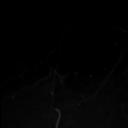fish: (54, 108, 61, 128)
